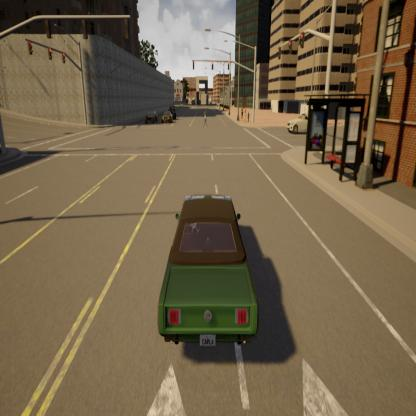Cars: (152, 168, 264, 368), (277, 98, 315, 140), (137, 96, 160, 135), (166, 94, 183, 122), (160, 104, 174, 130)
Pedestrian: (202, 104, 212, 136), (244, 99, 249, 130), (239, 101, 245, 125)
